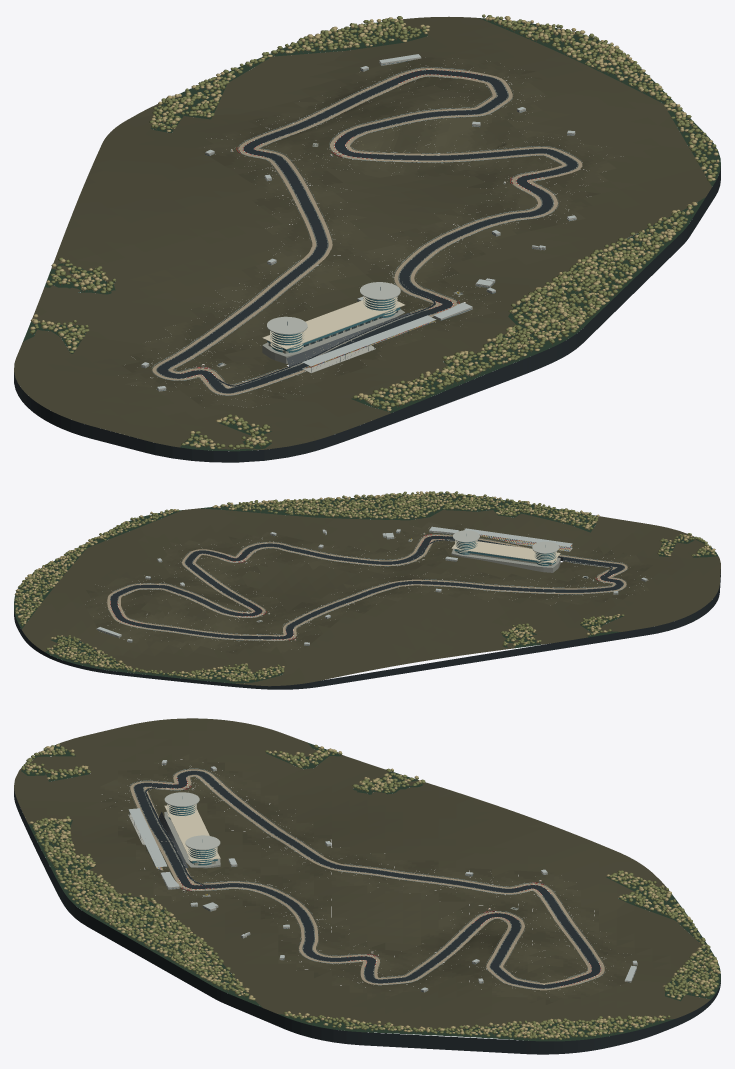
Rendered from Istanbul.glb.
3 views of the same model, one above another, from view 1: azimuth 30°, elevation 25°; view 2: azimuth 150°, elevation 25°; view 3: azimuth 270°, elevation 25° (orthographic). The views are drawn at different scales.
Parts seen in each view (by area): view 1: terrain/ground, scenery/leaves, terrain-ground-finish-1, terrain-ground-finish-2, terrain-ground-finish-3, terrain-woodland/forestFloor, road/asphalt, terrain-ground-finish-0, terrain-skirt/dark, scenery/leavesLight, terrain-ground-finish-4, runoff/gravel (+8 smaller); view 2: terrain/ground, scenery/leaves, terrain-ground-finish-1, terrain-ground-finish-2, terrain-ground-finish-3, terrain-woodland/forestFloor, road/asphalt, terrain-ground-finish-0, scenery/leavesLight, runoff/gravel, terrain-skirt/dark, terrain-ground-finish-4 (+8 smaller); view 3: terrain/ground, scenery/leaves, terrain-ground-finish-1, terrain-ground-finish-2, terrain-ground-finish-3, terrain-skirt/dark, terrain-woodland/forestFloor, road/asphalt, terrain-ground-finish-0, scenery/leavesLight, terrain-ground-finish-4, runoff/gravel (+6 smaller).
Part boxes in pixels (box(x1,y1,x2,y2)): terrain/ground: box(14, 16, 711, 450); scenery/leaves: box(30, 14, 718, 449); terrain-ground-finish-1: box(123, 57, 593, 407); terrain-ground-finish-2: box(114, 58, 609, 406); terrain-ground-finish-3: box(122, 58, 623, 407); terrain-woodland/forestFloor: box(23, 18, 720, 451); road/asphalt: box(157, 70, 577, 393); terrain-ground-finish-0: box(122, 57, 600, 403); terrain-skirt/dark: box(14, 166, 720, 462); scenery/leavesLight: box(29, 16, 719, 449); terrain-ground-finish-4: box(125, 59, 616, 407); runoff/gravel: box(152, 68, 582, 395); terrain/ground: box(21, 508, 720, 686); scenery/leaves: box(14, 491, 716, 681); terrain-ground-finish-1: box(84, 524, 652, 654); terrain-ground-finish-2: box(84, 523, 648, 654); terrain-ground-finish-3: box(87, 522, 651, 653); terrain-woodland/forestFloor: box(14, 493, 717, 683); road/asphalt: box(110, 536, 624, 639); terrain-ground-finish-0: box(86, 528, 649, 653); scenery/leavesLight: box(14, 491, 715, 681); runoff/gravel: box(107, 534, 627, 640); terrain-skirt/dark: box(14, 569, 720, 689); terrain-ground-finish-4: box(89, 522, 649, 652); terrain/ground: box(14, 718, 710, 1031); scenery/leaves: box(21, 743, 719, 1039); terrain-ground-finish-1: box(101, 758, 634, 1003); terrain-ground-finish-2: box(100, 754, 634, 1004); terrain-ground-finish-3: box(100, 756, 633, 999); terrain-skirt/dark: box(14, 788, 720, 1054); terrain-woodland/forestFloor: box(21, 742, 720, 1041); road/asphalt: box(134, 771, 600, 988); terrain-ground-finish-0: box(100, 762, 633, 1004); scenery/leavesLight: box(26, 744, 720, 1039); terrain-ground-finish-4: box(100, 754, 634, 997); runoff/gravel: box(130, 769, 604, 990).
Size of the model in its own units: 2163 by 101 by 1985.
